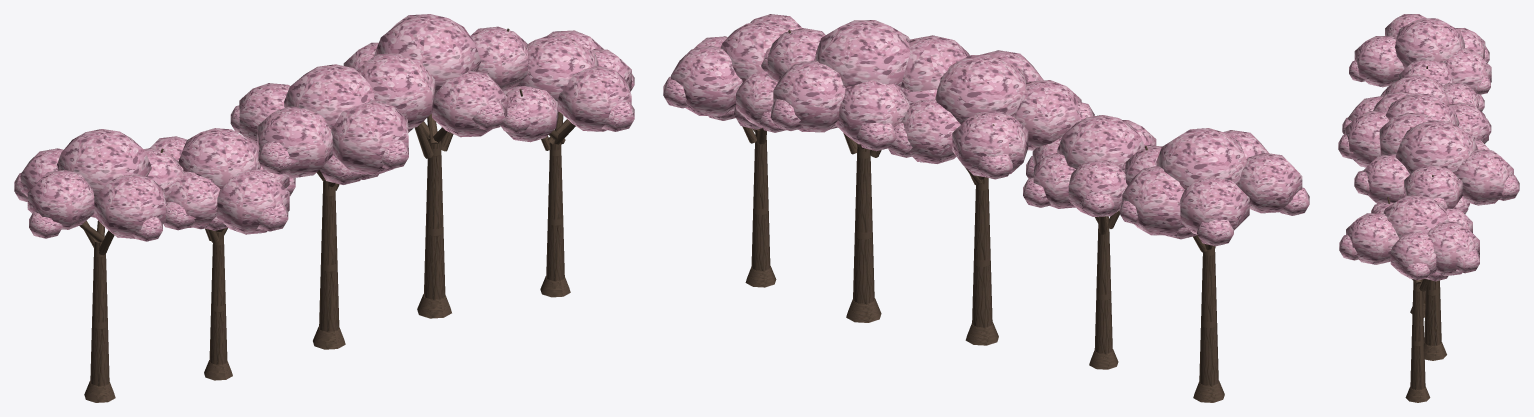
Rendered from cherry-build44.glb.
3 views of the same model, side by side, from view 1: azimuth 30°, elevation 25°; view 2: azimuth 150°, elevation 25°; view 3: azimuth 270°, elevation 25° (orthographic). The views are drawn at different scales.
Parts seen in each view (by area): view 1: cherry; view 2: cherry; view 3: cherry.
Part boxes in pixels (<box>): cherry: <box>14,14,634,402</box>; cherry: <box>663,14,1309,402</box>; cherry: <box>1338,14,1519,402</box>.
Bounding box in the file's own units: 2.21 × 1 × 0.7187.
Materials: 2 (2 with a texture image).
